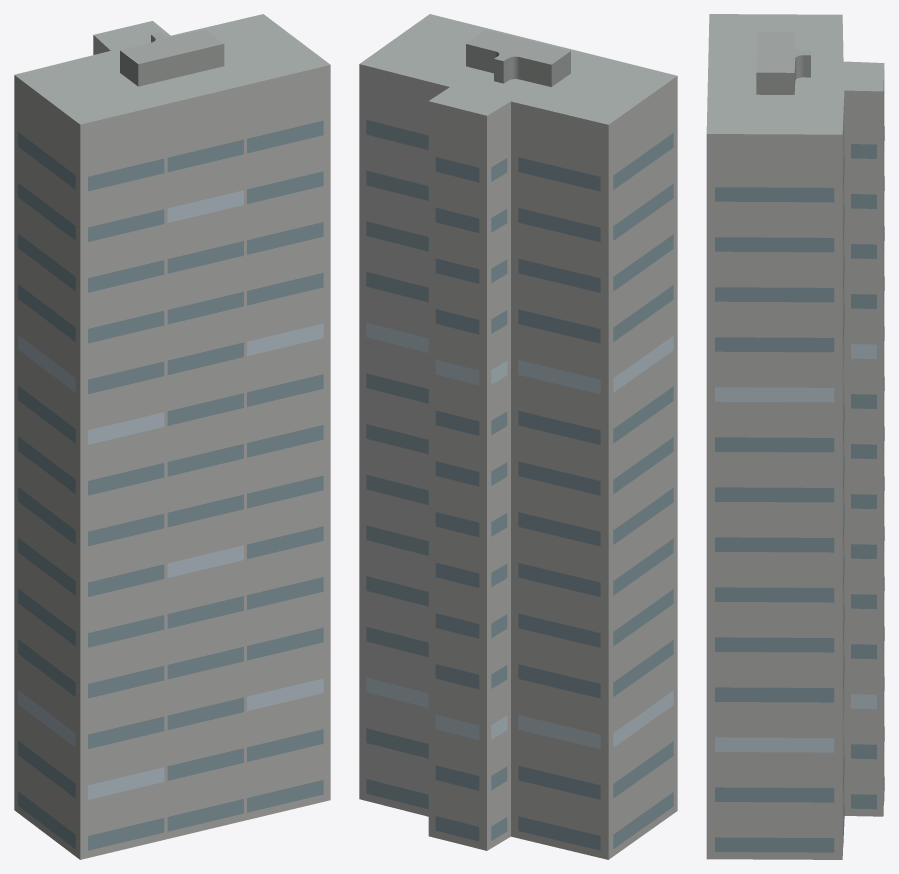
Rendered from fallback-gangdong-lotte-castle-first-111.glb.
The picture shows the model from 3 angles, left to right: view 1: azimuth 30°, elevation 25°; view 2: azimuth 150°, elevation 25°; view 3: azimuth 270°, elevation 25°; orthographic projection.
Parts seen in each view (by area): view 1: fallback-gangdong-lotte-castle-first-111; view 2: fallback-gangdong-lotte-castle-first-111; view 3: fallback-gangdong-lotte-castle-first-111.
Part boxes in pixels (bbox=[...]): fallback-gangdong-lotte-castle-first-111: bbox=[14, 14, 330, 859]; fallback-gangdong-lotte-castle-first-111: bbox=[359, 14, 677, 859]; fallback-gangdong-lotte-castle-first-111: bbox=[706, 14, 884, 859].
Bounding box in the file's own units: 28.12 × 81 × 17.53.
